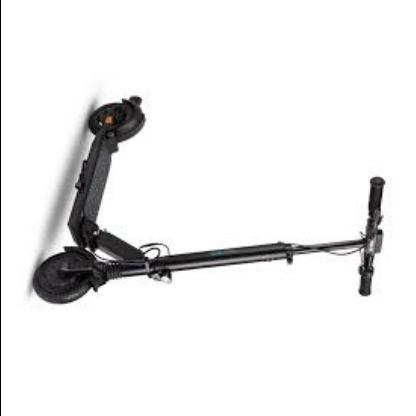bike: (32, 96, 392, 305)
